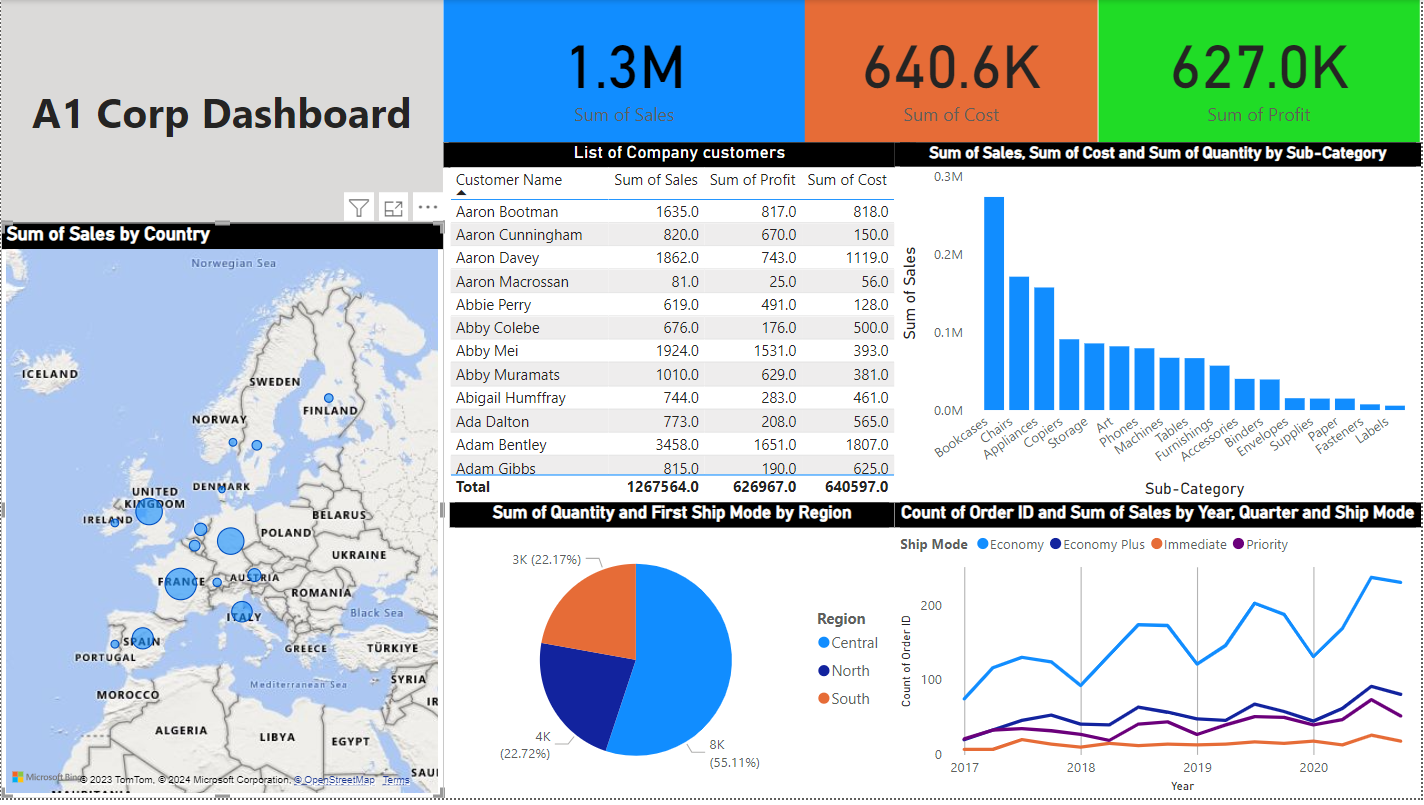

What the dashboard file says about the page in this screenshot:
{"tool":"powerbi","page":{"name":"Page 1","canvas":[1280,720],"ordinal":0},"visuals":[{"type":"card","fields":{"Values":["List of Orders.Sales"]},"box":[398.5,0,326.4,128.4],"z":0},{"type":"card","fields":{"Values":["List of Orders.Cost"]},"box":[724.9,0,264,128.4],"z":1000},{"type":"card","fields":{"Values":["List of Orders.Profit"]},"box":[988.9,0,289.7,128.4],"z":2000},{"type":"textbox","box":[0,0,398.5,200.5],"z":2001},{"type":"tableEx","title":"List of Company customers","fields":{"Values":["List of Orders.Customer Name","List of Orders.Sales","List of Orders.Profit","List of Orders.Cost"]},"box":[398.5,128.4,425.4,325.2],"z":2003},{"type":"clusteredColumnChart","fields":{"Category":["List of Orders.Sub-Category"],"Y":["List of Orders.Sales"]},"box":[805.6,128.4,474.3,325.2],"z":2005},{"type":"pieChart","fields":{"Category":["List of Orders.Region"],"Y":["List of Orders.Quantity"]},"box":[404.6,453.5,401,266.5],"z":2007},{"type":"lineChart","fields":{"Category":["List of Orders.Order Date.Variation.Date Hierarchy.Year","List of Orders.Order Date.Variation.Date Hierarchy.Quarter"],"Y":["List of Orders.Order ID"],"Series":["List of Orders.Ship Mode"]},"box":[805.6,453.5,474.3,266.5],"z":2008},{"type":"map","fields":{"Category":["List of Orders.Country"],"Size":["List of Orders.Sales"]},"box":[0,200.5,398.5,519.5],"z":2009}]}

Visuals, with their boxes in screenshot pixels (x1, y1, x2, y2), scaled from the page's 1280x720 canvas onto the 1424x805 screenshot:
card - List of Orders.Sales: {"x1": 443, "y1": 0, "x2": 806, "y2": 144}
card - List of Orders.Cost: {"x1": 806, "y1": 0, "x2": 1100, "y2": 144}
card - List of Orders.Profit: {"x1": 1100, "y1": 0, "x2": 1422, "y2": 144}
textbox: {"x1": 0, "y1": 0, "x2": 443, "y2": 224}
"List of Company customers" tableEx: {"x1": 443, "y1": 144, "x2": 917, "y2": 507}
clusteredColumnChart - List of Orders.Sub-Category x List of Orders.Sales: {"x1": 896, "y1": 144, "x2": 1423, "y2": 507}
pieChart - List of Orders.Region x List of Orders.Quantity: {"x1": 450, "y1": 507, "x2": 896, "y2": 804}
lineChart - List of Orders.Order Date.Variation.Date Hierarchy.Year x List of Orders.Order Date.Variation.Date Hierarchy.Quarter: {"x1": 896, "y1": 507, "x2": 1423, "y2": 804}
map - List of Orders.Country x List of Orders.Sales: {"x1": 0, "y1": 224, "x2": 443, "y2": 804}
